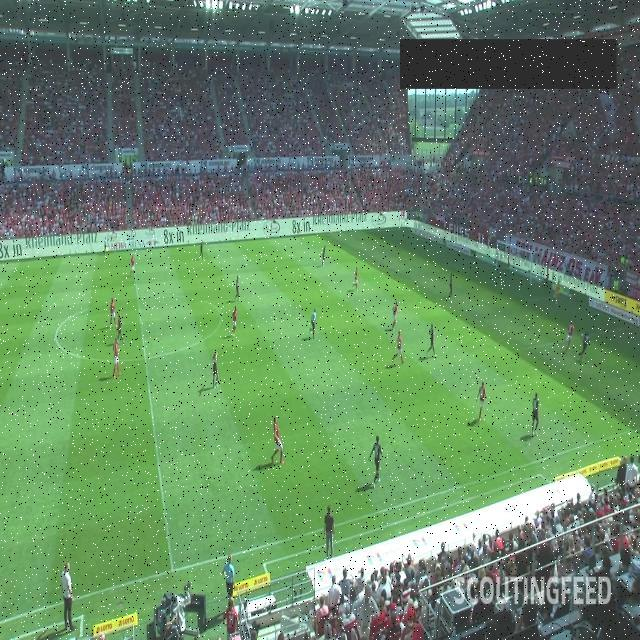Ball: (580, 332, 584, 340)
Corner: (401, 214, 408, 231)
GoalKeeper: (552, 278, 561, 308)
Referee: (310, 307, 316, 339), (104, 236, 108, 254)
TEAM 1: (271, 416, 285, 464), (476, 381, 488, 422), (561, 322, 575, 354), (392, 330, 405, 364), (112, 337, 121, 379), (230, 305, 238, 337), (392, 300, 399, 330), (110, 296, 116, 328), (129, 253, 135, 277), (354, 266, 358, 291)
TEAM 2: (368, 434, 384, 486), (578, 330, 590, 362), (531, 392, 539, 436), (427, 323, 437, 357), (116, 312, 125, 343), (213, 351, 219, 388), (234, 275, 240, 301), (448, 272, 452, 298), (322, 244, 326, 266), (200, 239, 204, 260)
